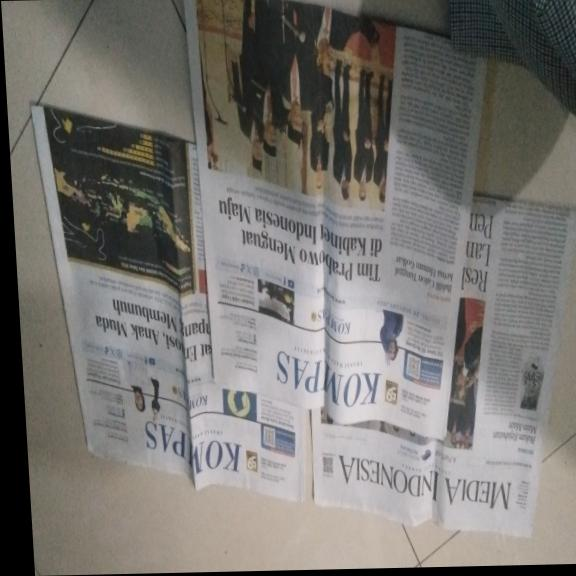Kertas: (184, 0, 514, 450), (301, 191, 576, 537), (30, 97, 247, 496)
